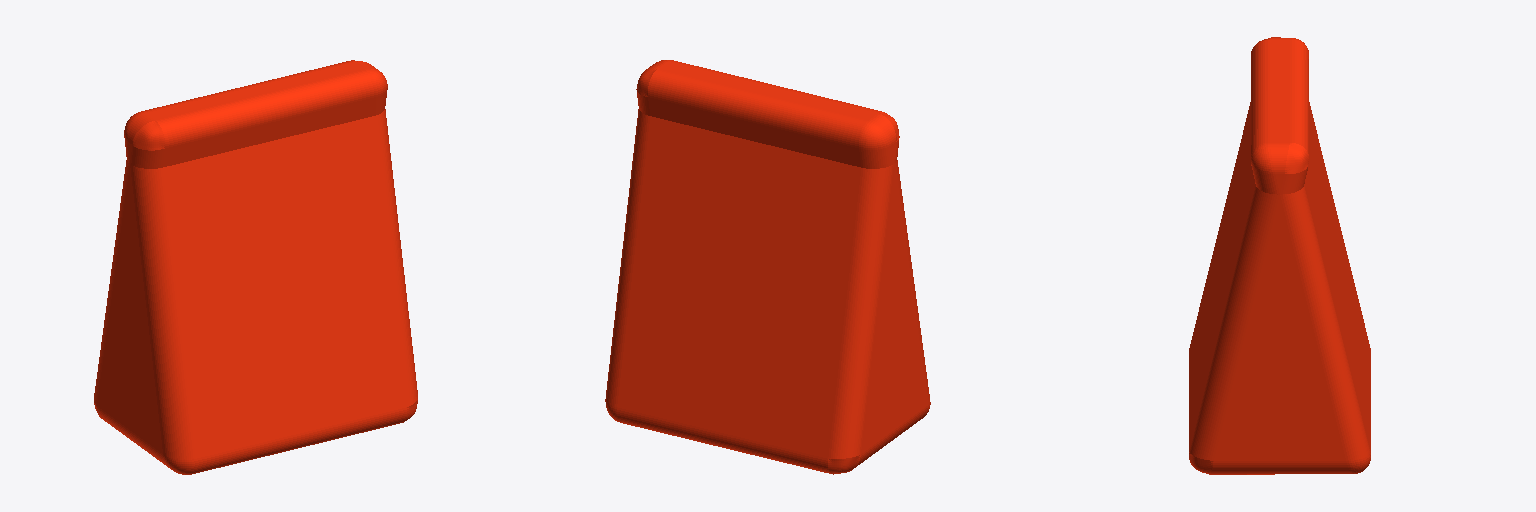
File: carrot_seed.obj
3 renders of one model, left to right at view 1: azimuth 30°, elevation 25°; view 2: azimuth 150°, elevation 25°; view 3: azimuth 270°, elevation 25°, orthographic.
Visible parts, largest first — view 1: Seed_Bag; view 2: Seed_Bag; view 3: Seed_Bag.
Boxes of the visible parts, x1,y1,x2,y2 form: Seed_Bag: [94, 60, 417, 474]; Seed_Bag: [605, 60, 930, 474]; Seed_Bag: [1189, 37, 1370, 474].
Size of the model in its own units: 0.56 by 0.7 by 0.351.